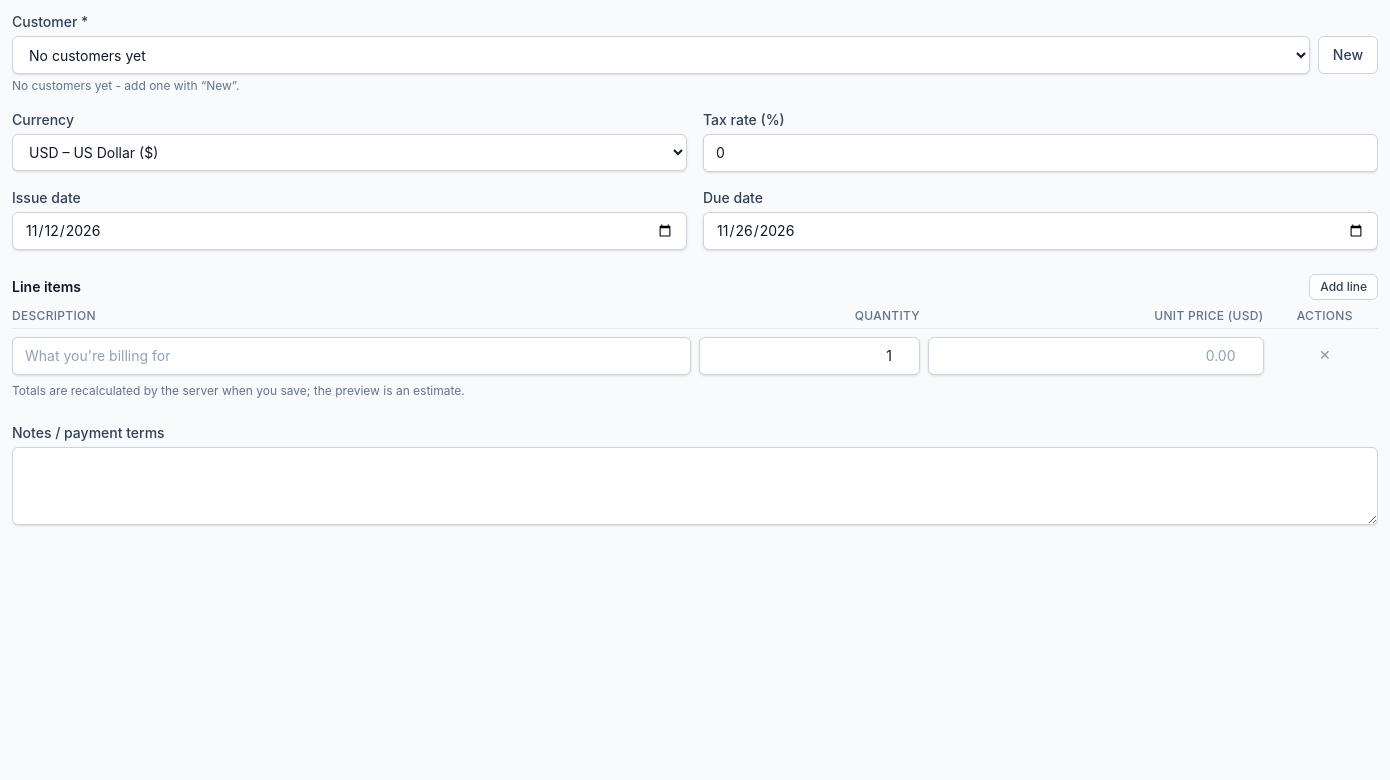
Test case: InvoiceEditor › labels line-item columns and keeps labels on every added line
Check: the column headings read "Description", "Quantity", "Unit price (USD)", "Actions", in this order, box [12, 308, 96, 323]; [855, 308, 920, 323]; [1154, 308, 1264, 323]; [1297, 308, 1353, 323]
Click the button "Add line" at (1344, 287), box [1309, 274, 1378, 300]
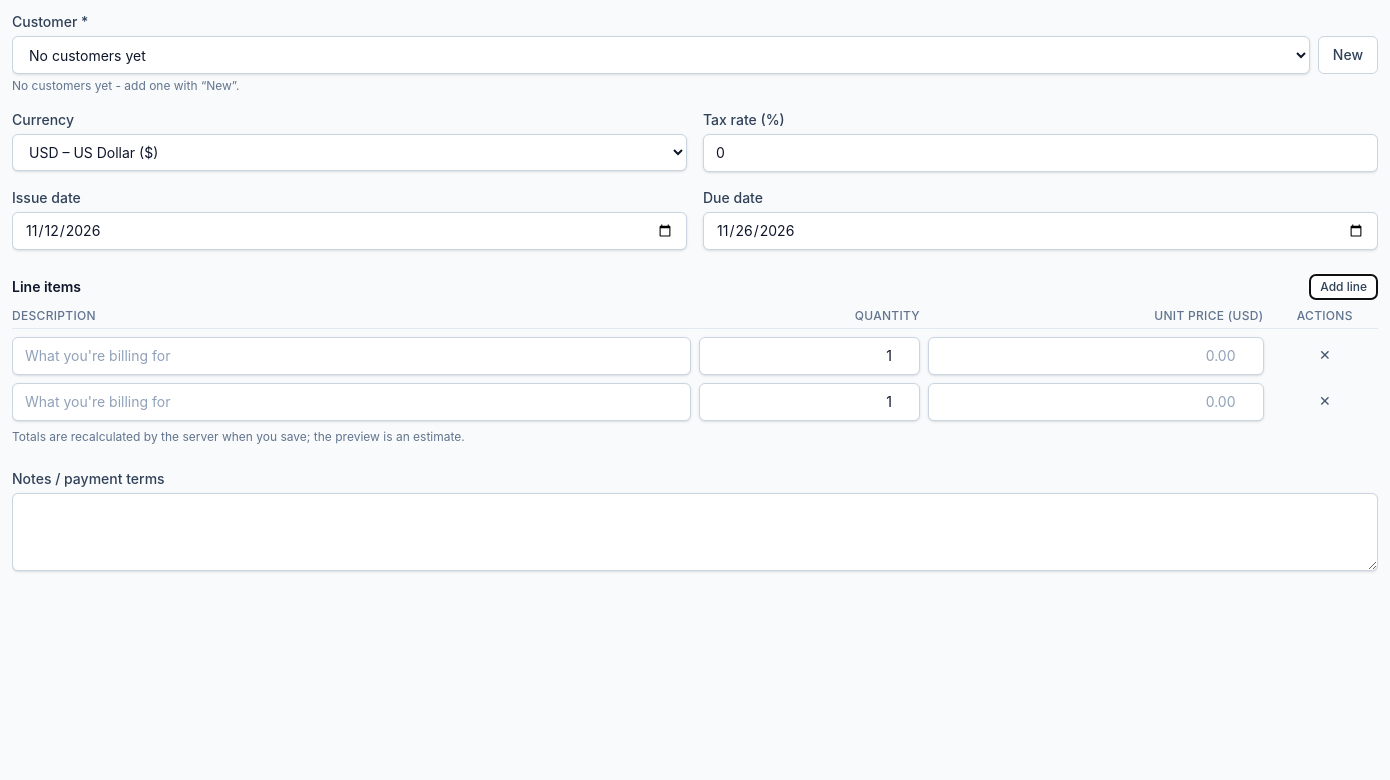
Check: the field named "Line 2 description" is shown, box [12, 383, 691, 421]
Check: the button named "Remove line 2" is shown, box [1272, 383, 1378, 419]
